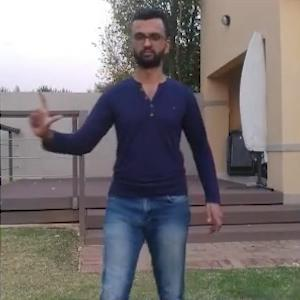land_hand: (22, 85, 66, 146)
